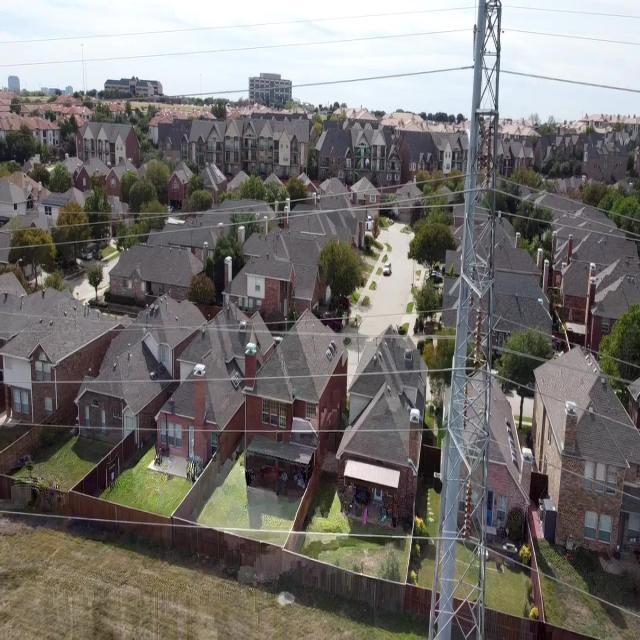杆塔: (424, 0, 502, 640)
正常绝缘子: (459, 469, 475, 542), (484, 106, 494, 195), (472, 292, 483, 364)
